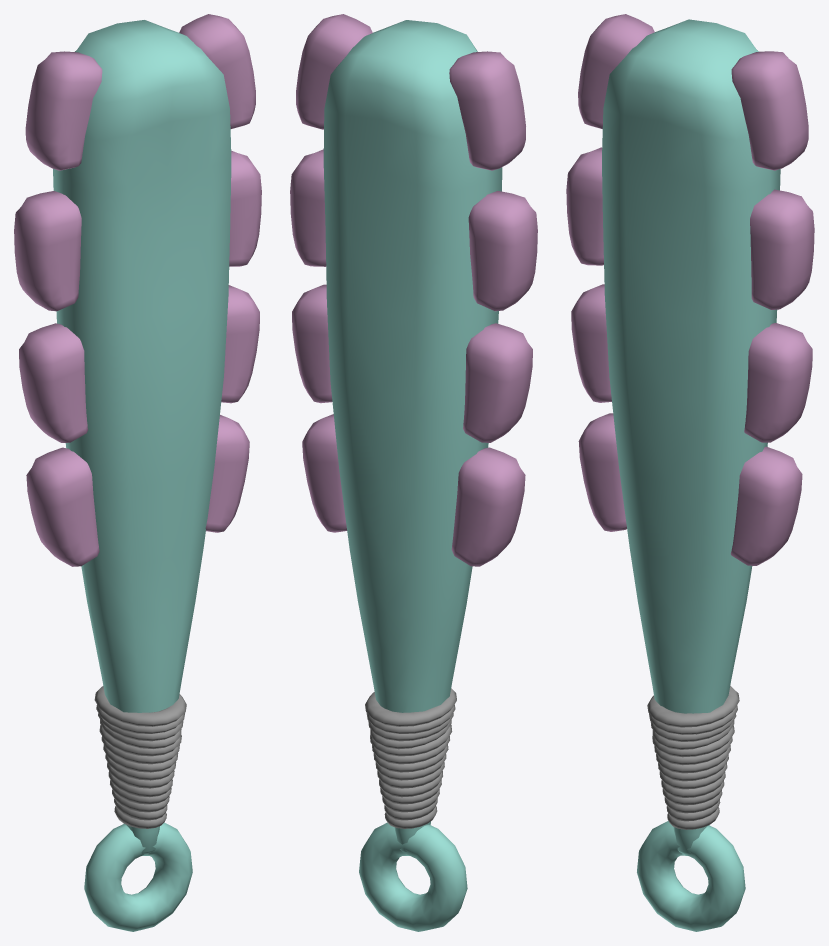
Rendered from arma-1.FBX.
The picture shows the model from 3 angles, left to right: view 1: azimuth 30°, elevation 25°; view 2: azimuth 150°, elevation 25°; view 3: azimuth 330°, elevation 25°; orthographic projection.
Parts seen in each view (by area): view 1: weapon; view 2: weapon; view 3: weapon.
Part boxes in pixels (bbox=[...]): weapon: bbox=[14, 14, 261, 931]; weapon: bbox=[290, 14, 537, 931]; weapon: bbox=[566, 14, 814, 931].
Bounding box in the file's own units: 14.73 × 54.23 × 7.03.
